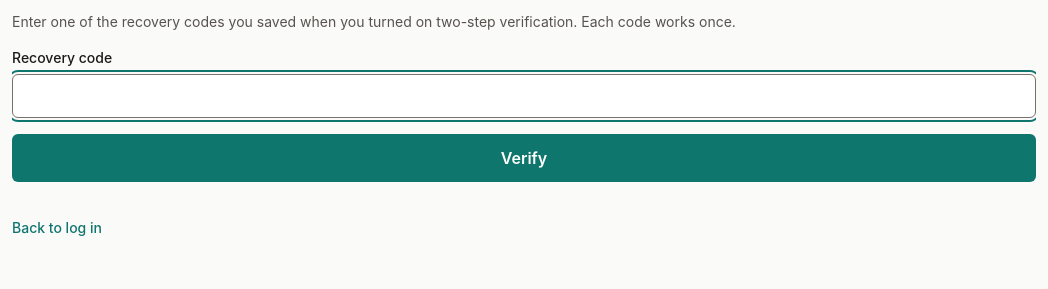
Test: VerifyLogin › explains a refused recovery code
Type "abcd-efgh-ijkl-mnop" into the field labelled "Recovery code" at (524, 96), box [12,74,1036,118]
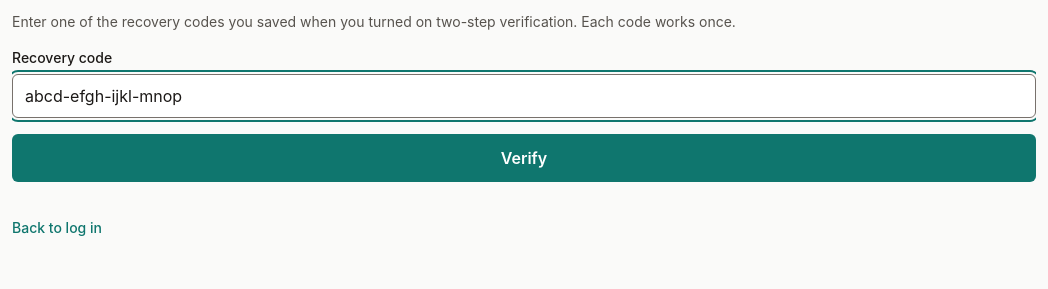
Click the button "Verify" at (524, 158), box [12,134,1036,182]
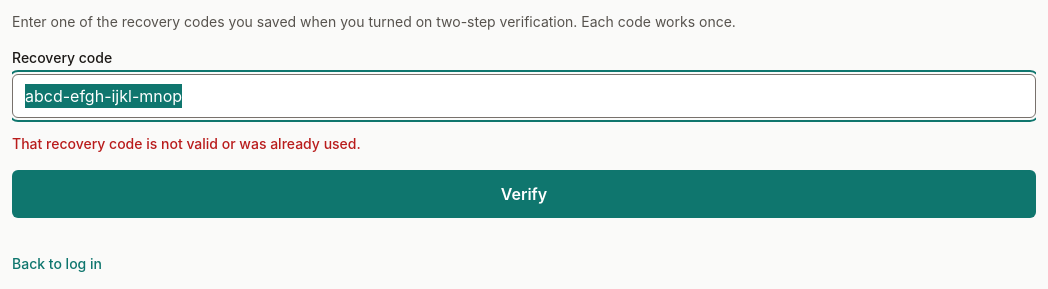
expect the message reads "That recovery code is not valid or was already used.": met, box [12,135,361,152]
